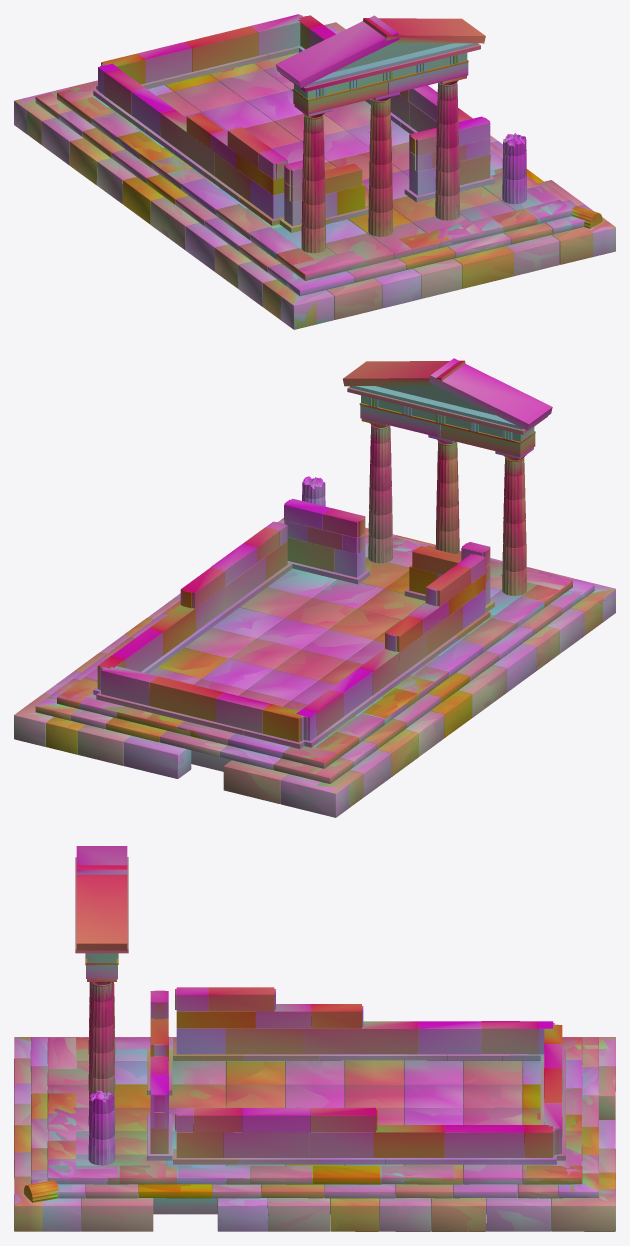
File: shrine.glb
The picture shows the model from 3 angles, top to bottom: view 1: azimuth 30°, elevation 25°; view 2: azimuth 150°, elevation 25°; view 3: azimuth 270°, elevation 25°; orthographic projection. The views are drawn at different scales.
Visible parts, largest first — view 1: Shrine, Shrine_lod; view 2: Shrine, Shrine_lod; view 3: Shrine, Shrine_lod.
Part boxes in pixels (left/top/right/bottom): Shrine: left=14, top=14, right=615, bottom=329; Shrine_lod: left=14, top=15, right=615, bottom=329; Shrine: left=14, top=361, right=615, bottom=817; Shrine_lod: left=14, top=358, right=615, bottom=817; Shrine: left=14, top=847, right=615, bottom=1231; Shrine_lod: left=14, top=846, right=615, bottom=1231.
Size of the model in its own units: 26.59 by 19.21 by 40.02.
